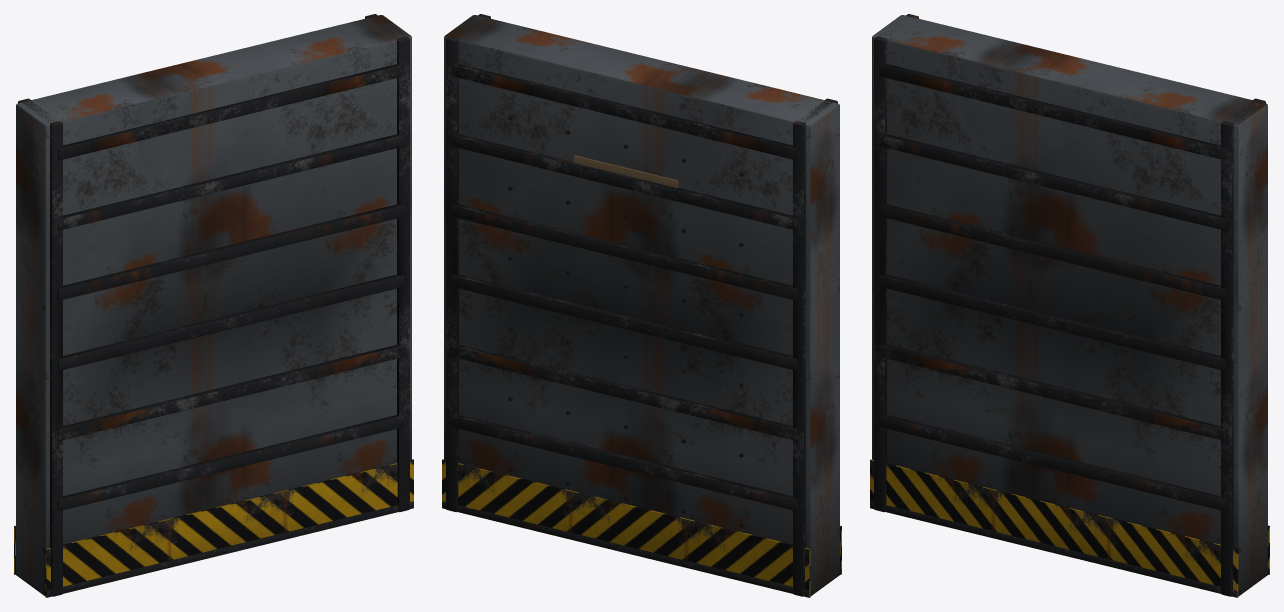
Rendered from door_slab.gltf.
The picture shows the model from 3 angles, left to right: view 1: azimuth 30°, elevation 25°; view 2: azimuth 150°, elevation 25°; view 3: azimuth 330°, elevation 25°; orthographic projection.
Visible parts, largest first — view 1: door_slab; view 2: door_slab; view 3: door_slab.
Part boxes in pixels (bbox=[...]): door_slab: bbox=[14, 14, 413, 597]; door_slab: bbox=[442, 14, 841, 597]; door_slab: bbox=[870, 14, 1269, 597].
Bounding box in the file's own units: 3.18 × 3.9 × 0.54.
4 materials, 4 textured.
